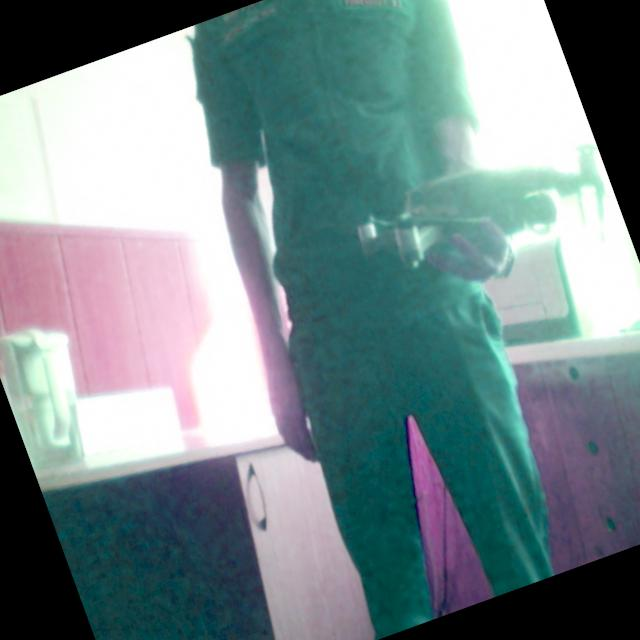drone: (328, 93, 628, 321)
